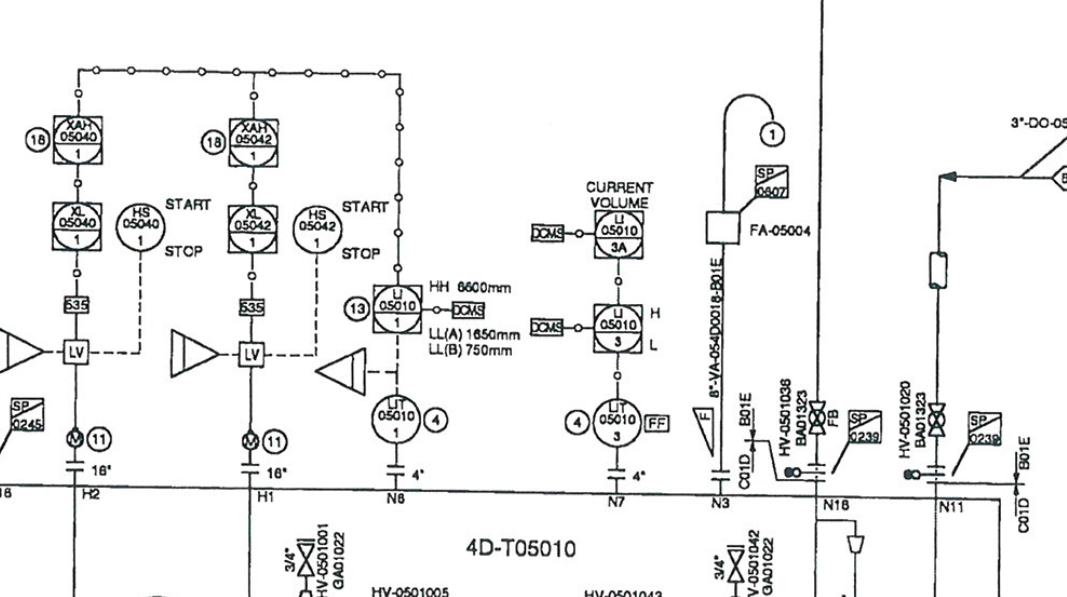Instrument: (589, 395, 646, 453), (366, 390, 423, 447), (113, 198, 168, 253), (291, 202, 345, 257)
Instrument-square: (590, 299, 647, 357), (588, 207, 647, 261), (48, 196, 104, 252), (226, 114, 282, 169), (370, 281, 424, 335), (51, 112, 105, 166)
